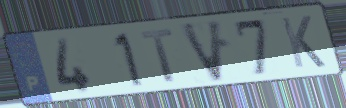1: (110, 30, 146, 89)
4: (55, 34, 94, 95)
7: (230, 19, 272, 77)
K: (277, 14, 329, 71)
T: (138, 26, 178, 85)
V: (176, 17, 228, 85)
